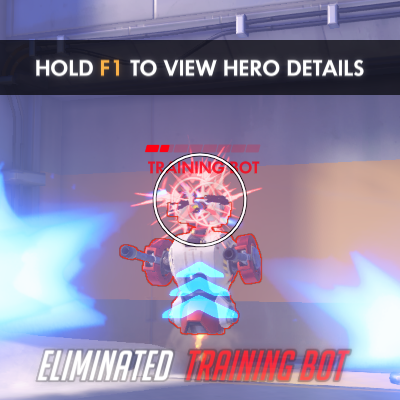hpbar: (144, 144, 261, 153)
